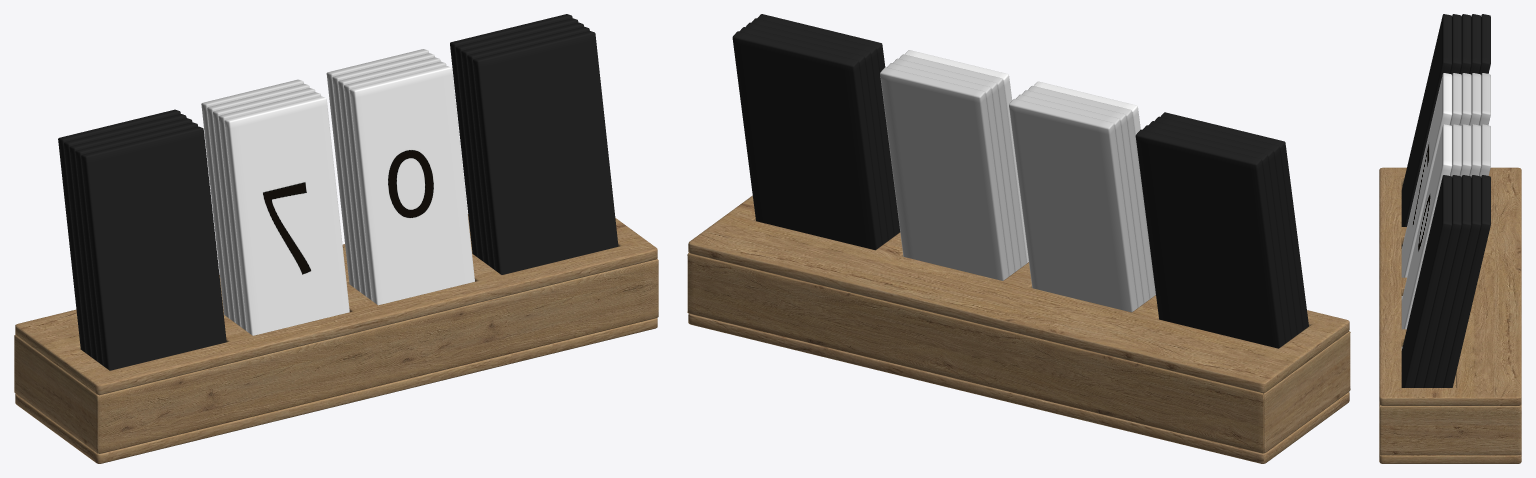
Rendered from office_decor_calendar_desk.glb.
The picture shows the model from 3 angles, left to right: view 1: azimuth 30°, elevation 25°; view 2: azimuth 150°, elevation 25°; view 3: azimuth 270°, elevation 25°; orthographic projection. The views are drawn at different scales.
Visible parts, largest first — view 1: Office_Decor_Calendar-Desk_02_0_3; view 2: Office_Decor_Calendar-Desk_02_0_3; view 3: Office_Decor_Calendar-Desk_02_0_3.
Part boxes in pixels (x1,y1,x2,y2): Office_Decor_Calendar-Desk_02_0_3: [14, 14, 658, 463]; Office_Decor_Calendar-Desk_02_0_3: [687, 14, 1350, 463]; Office_Decor_Calendar-Desk_02_0_3: [1379, 14, 1521, 463].
Size of the model in its own units: 0.2749 by 0.1284 by 0.0716.
Materials: 7 (4 with a texture image).
